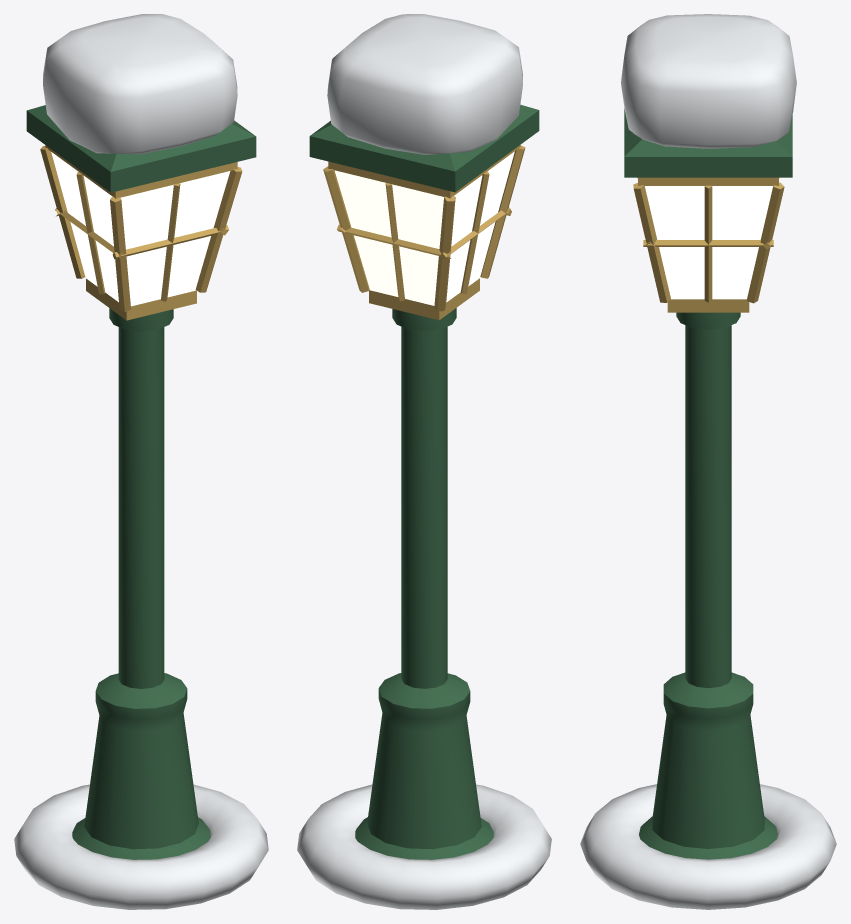
The model's file is SnowyLampPost.glb.
3 views of the same model, side by side, from view 1: azimuth 30°, elevation 25°; view 2: azimuth 150°, elevation 25°; view 3: azimuth 270°, elevation 25° (orthographic).
Parts seen in each view (by area): view 1: Main, Glass; view 2: Main, Glass; view 3: Main, Glass.
Part boxes in pixels (left/top/right/bottom): Main: left=14, top=14, right=268, bottom=909; Glass: left=51, top=152, right=230, bottom=306; Main: left=297, top=14, right=551, bottom=909; Glass: left=334, top=151, right=514, bottom=305; Main: left=580, top=14, right=836, bottom=909; Glass: left=645, top=186, right=772, bottom=299.
Size of the model in its own units: 3.34 by 11.9 by 3.34.
2 materials, 2 textured.
